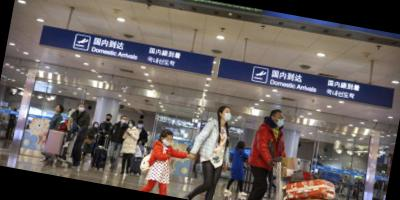mask_weared_incorrect: (161, 136, 173, 148)
with_mask: (274, 114, 287, 128), (222, 109, 234, 123), (78, 106, 86, 114), (120, 117, 128, 125), (106, 116, 112, 123), (128, 122, 134, 129), (137, 123, 144, 129), (94, 124, 99, 128)
without_mask: (54, 106, 61, 113)
